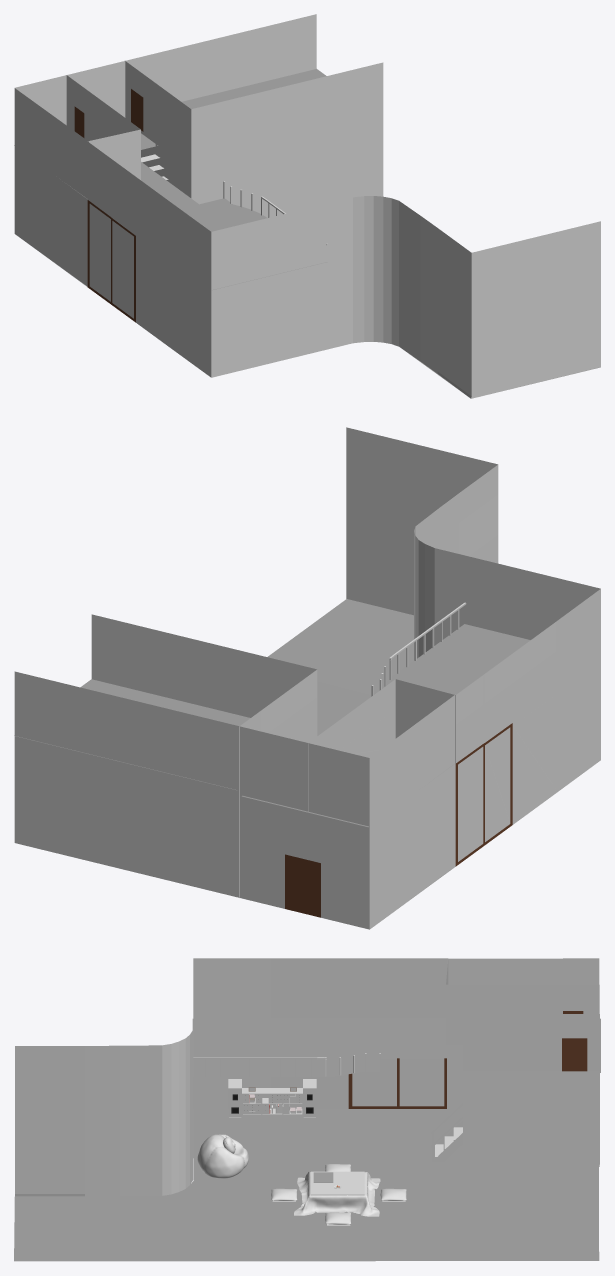
Rendered from HouseLayout2.fbx.
3 views of the same model, one above another, from view 1: azimuth 30°, elevation 25°; view 2: azimuth 150°, elevation 25°; view 3: azimuth 270°, elevation 25° (orthographic). The views are drawn at different scales.
Parts seen in each view (by area): view 1: Cube.007; view 2: Cube.007; view 3: Cube.007.
Boxes of the visible parts, left/top/right/bottom form: Cube.007: left=14, top=14, right=600, bottom=398; Cube.007: left=14, top=427, right=600, bottom=929; Cube.007: left=14, top=958, right=600, bottom=1261.
Bounding box in the file's own units: 3089 × 1441 × 5019.
